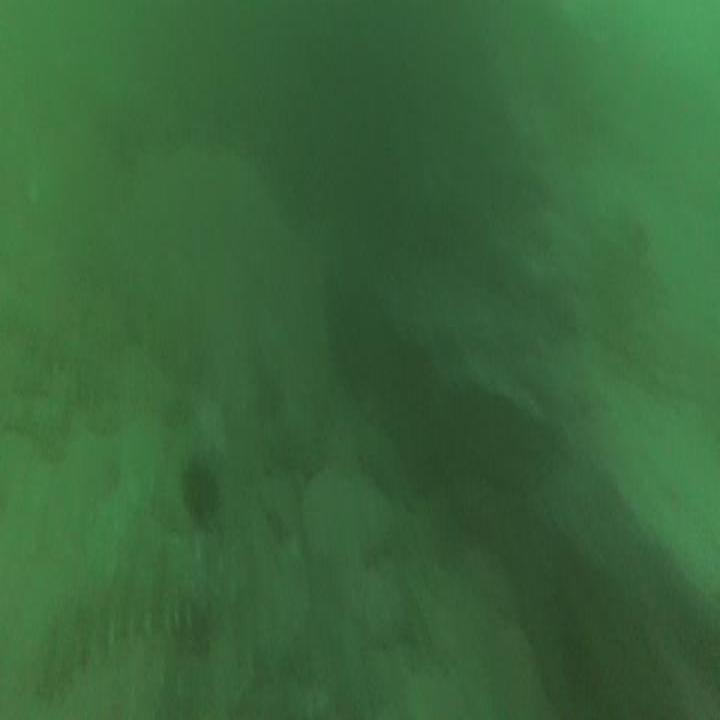echinus: (177, 441, 226, 535)
holothurian: (29, 549, 213, 688)
